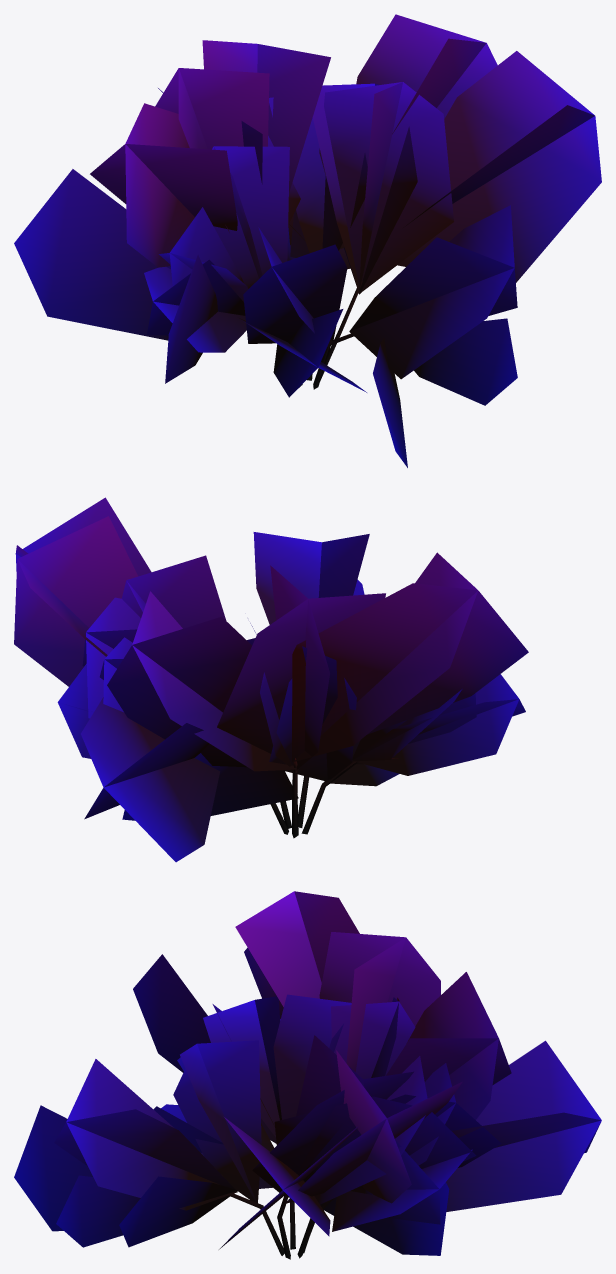
File: Bush_A_04.fbx
3 renders of one model, top to bottom at view 1: azimuth 30°, elevation 25°; view 2: azimuth 150°, elevation 25°; view 3: azimuth 270°, elevation 25°, orthographic. The views are drawn at different scales.
Visible parts, largest first — view 1: Bush_A_04; view 2: Bush_A_04; view 3: Bush_A_04.
Boxes of the visible parts, box(x1,y1,x2,y2) form: Bush_A_04: box(14, 14, 601, 467); Bush_A_04: box(14, 497, 528, 862); Bush_A_04: box(14, 891, 601, 1259).
Size of the model in its own units: 616 by 347 by 634.
